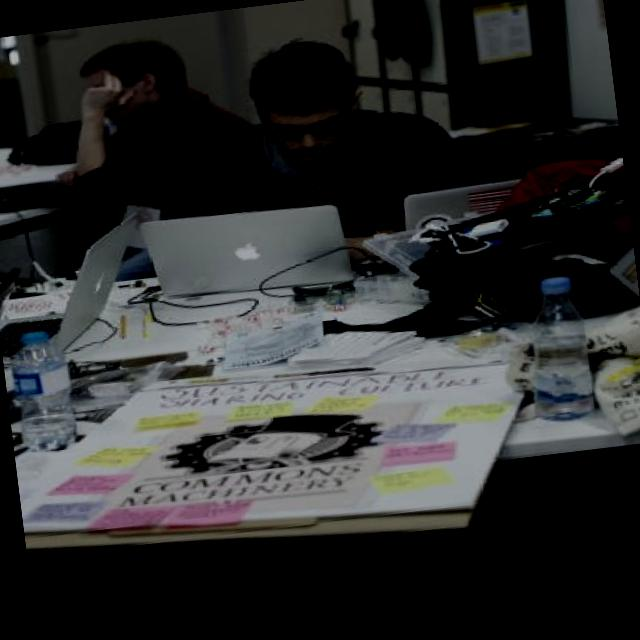Person: (152, 16, 498, 282), (30, 25, 267, 286)
